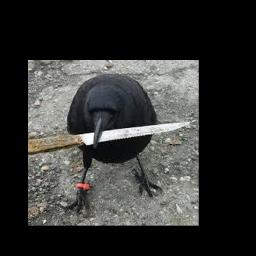Crow: (63, 73, 163, 213)
